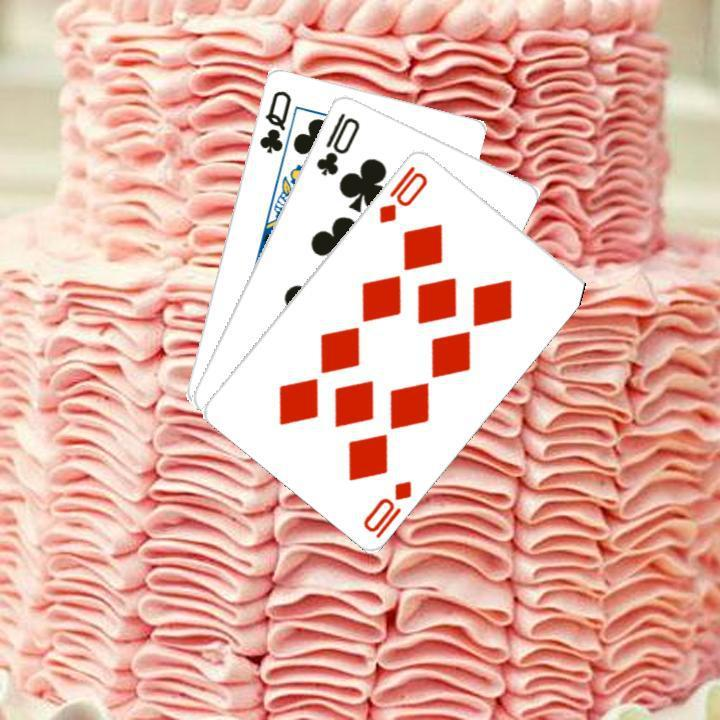10: (358, 475, 414, 540), (311, 107, 362, 178), (374, 161, 430, 225)
Q: (254, 85, 293, 155)
